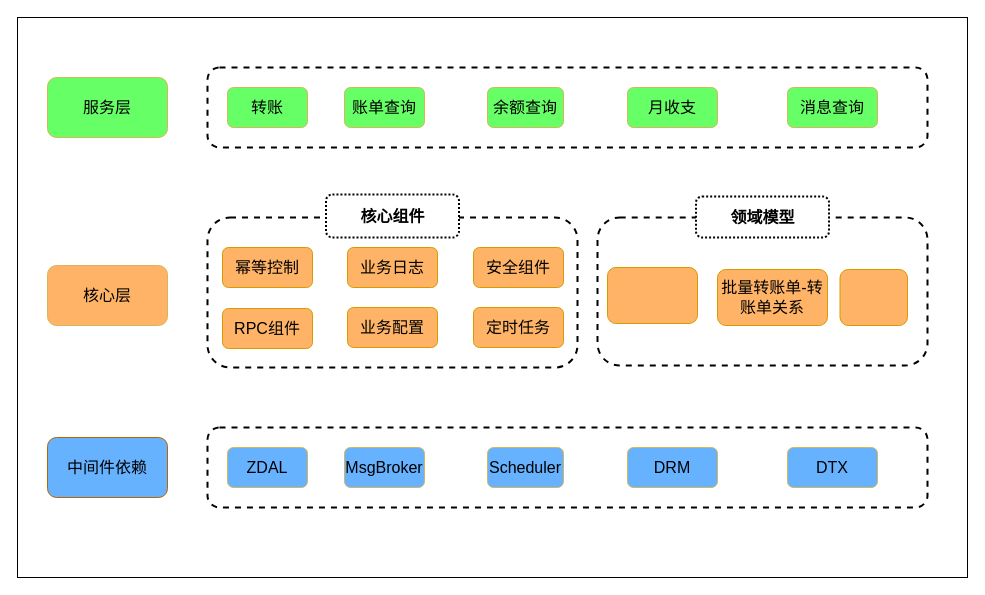
Some shapes in this 985 by 595 pixel diagram are drawn without their labels. The shapes that lost their labels are listed below. From the top down, each one's centre as x and y in pixels, then its label:
At (x=652, y=295): "转账单模型".
At (x=873, y=297): "消息模型".
